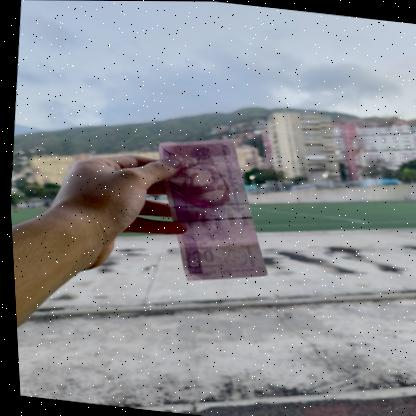vef_back: (142, 129, 279, 290)
